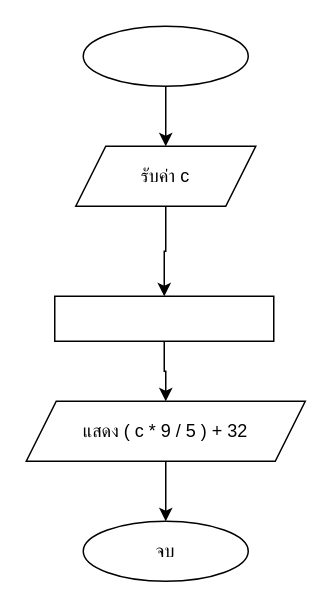
Some shapes in this 332 by 608 pixel diagram are drawn without their labels. The box of each missing label's shape, as (x1, y1, x2, y2) in pixels:
คำนวณ ( c * 9 / 5 ) + 32: (53, 295, 274, 341)
เริ่มต้น: (82, 25, 248, 86)
